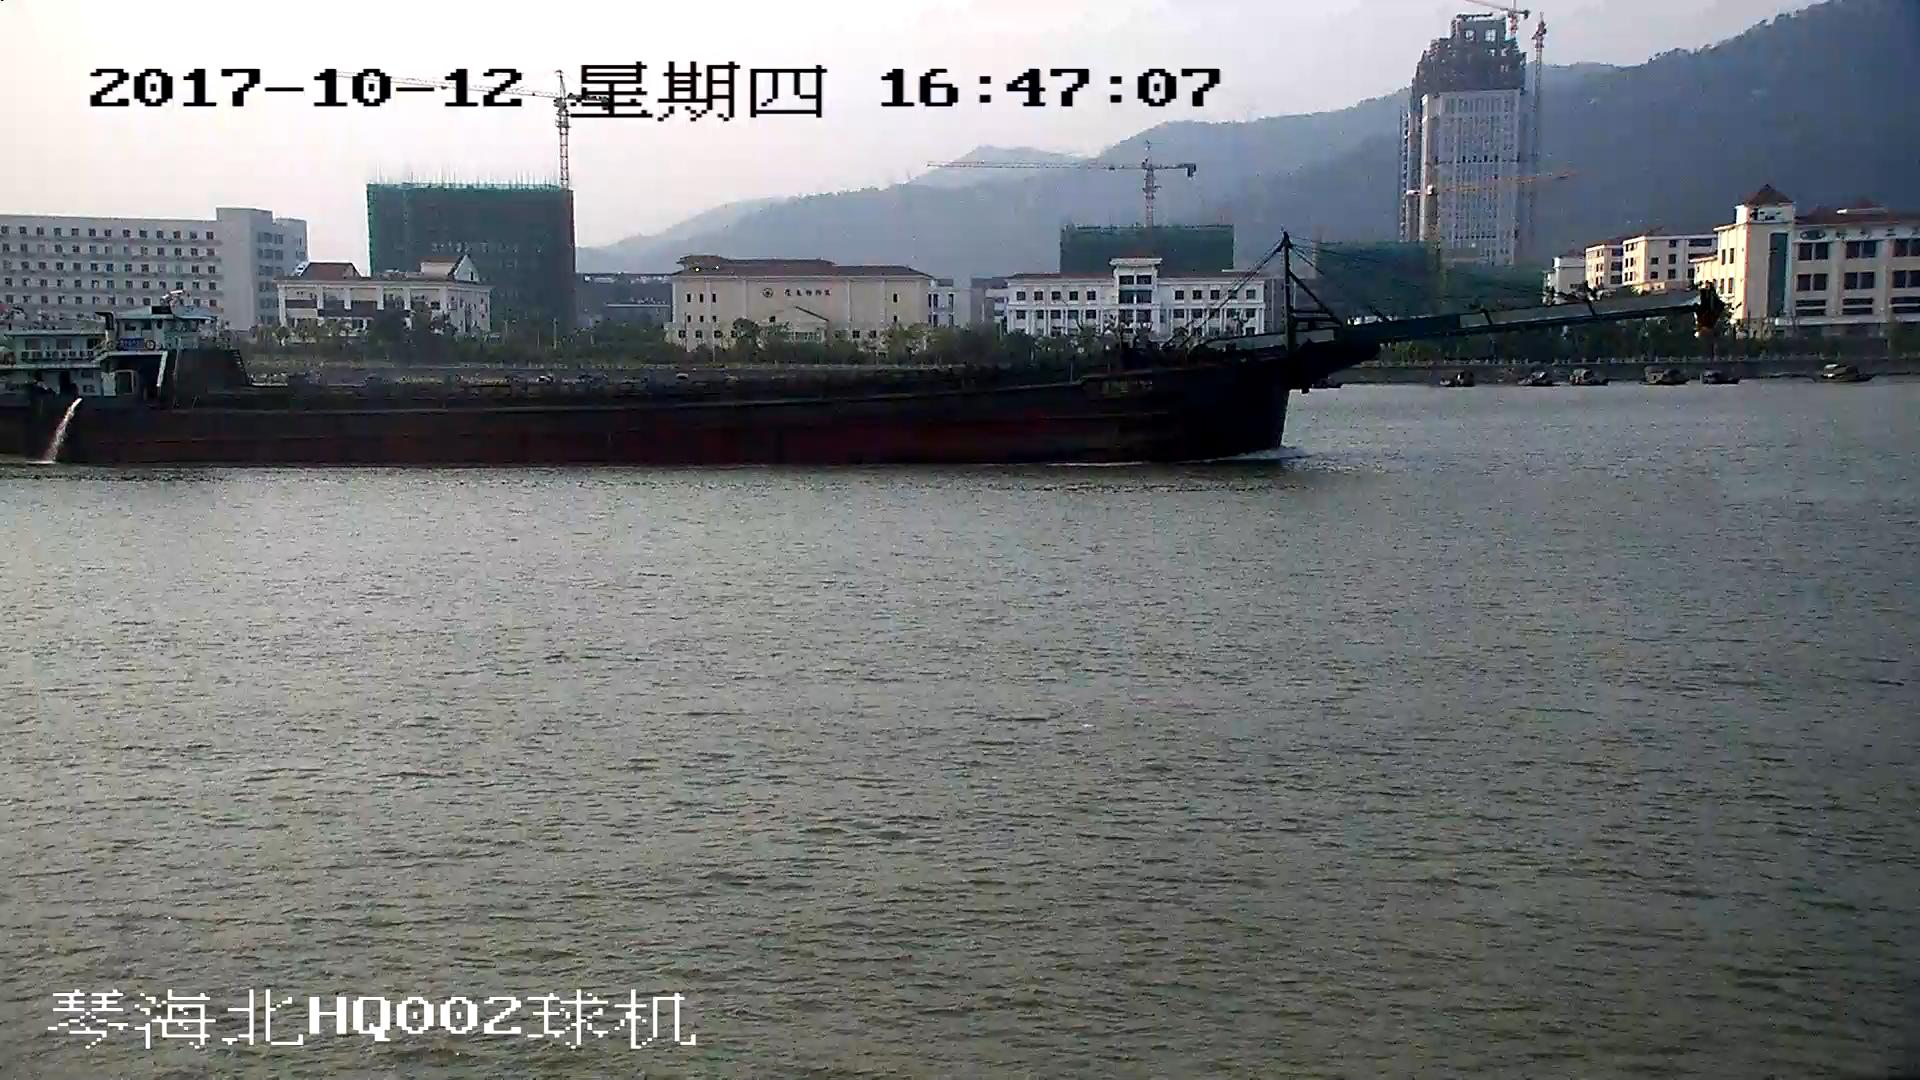bulk cargo carrier: (1, 240, 1711, 469)
